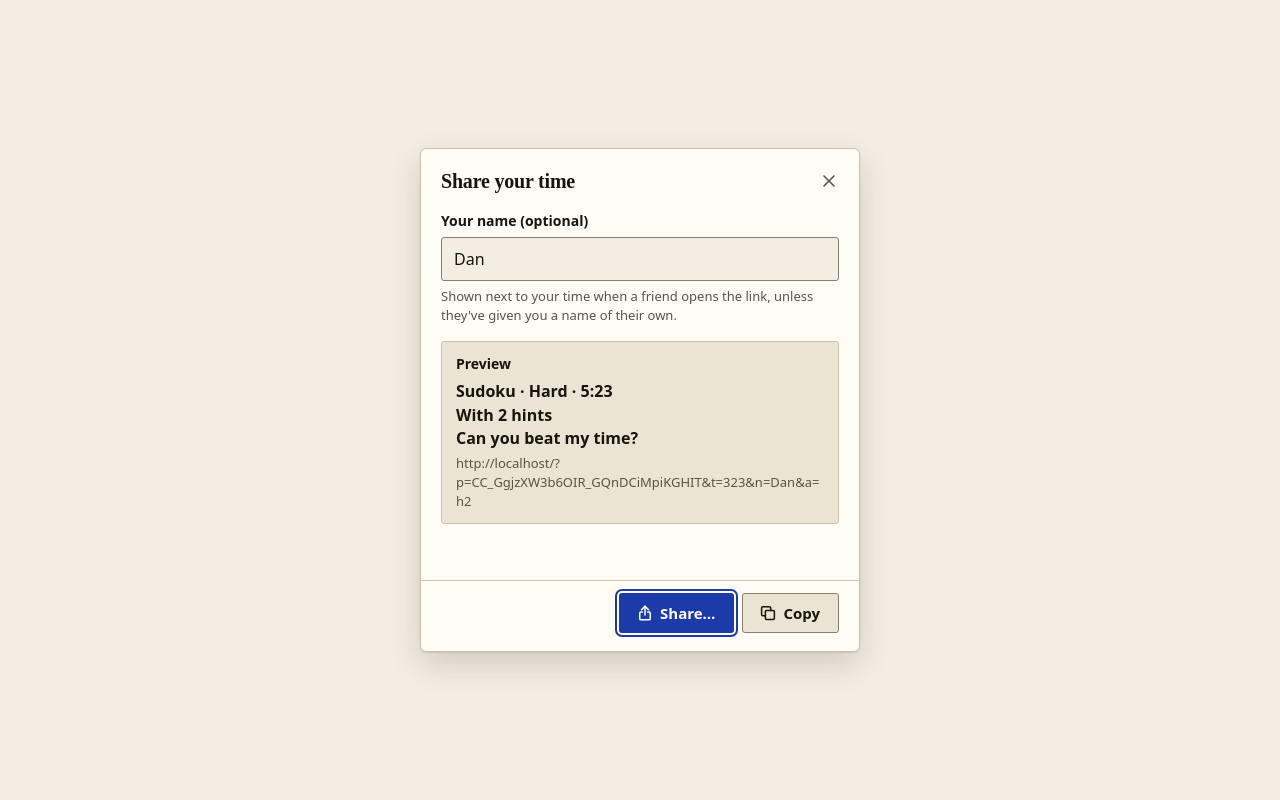
Test: ShareDialog › the share sheet › suggests copying when the sheet fails to open
The image size is (1280, 800).
What coordinates should you click on to do the following:
click the button "Share…"
I would click on:
 (677, 613)
Its box is left=619, top=593, right=734, bottom=633.
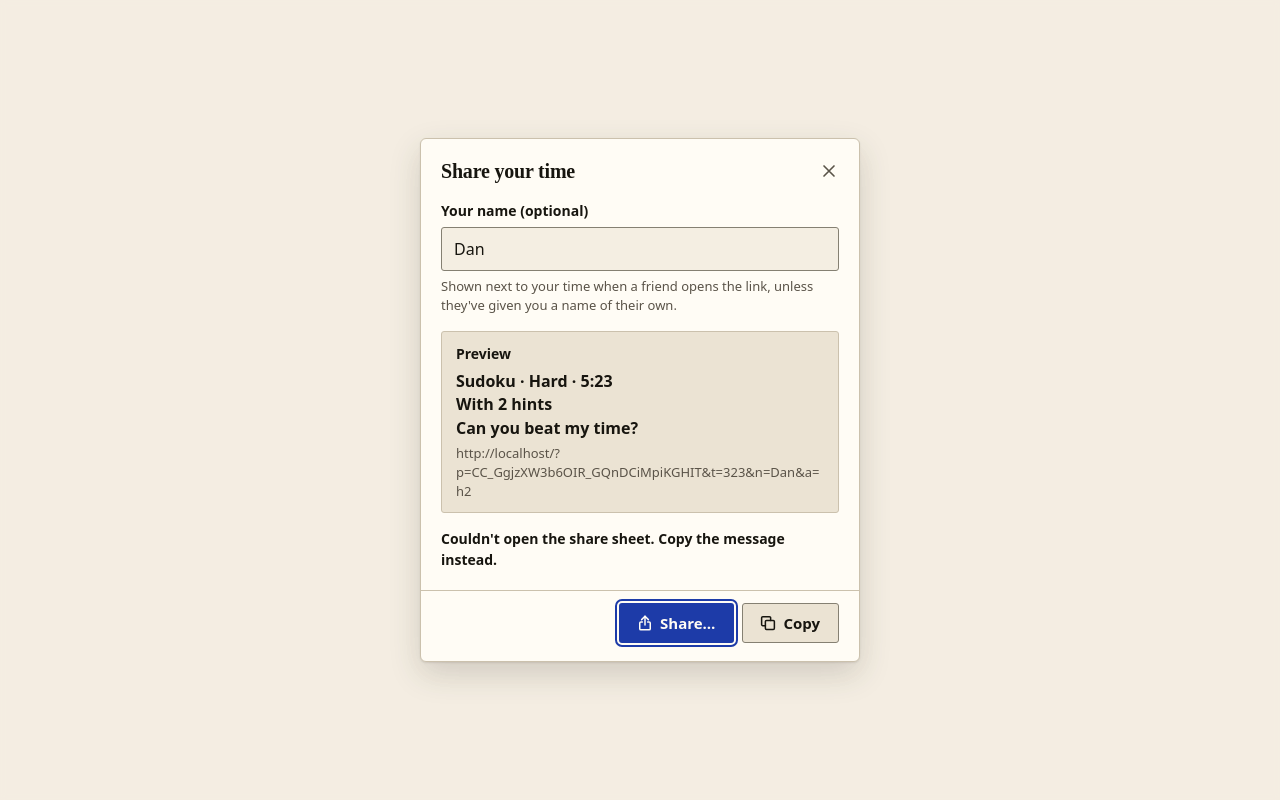
Now the message reads "Couldn't open the share sheet. Copy the message instead.", box left=441, top=529, right=785, bottom=569
